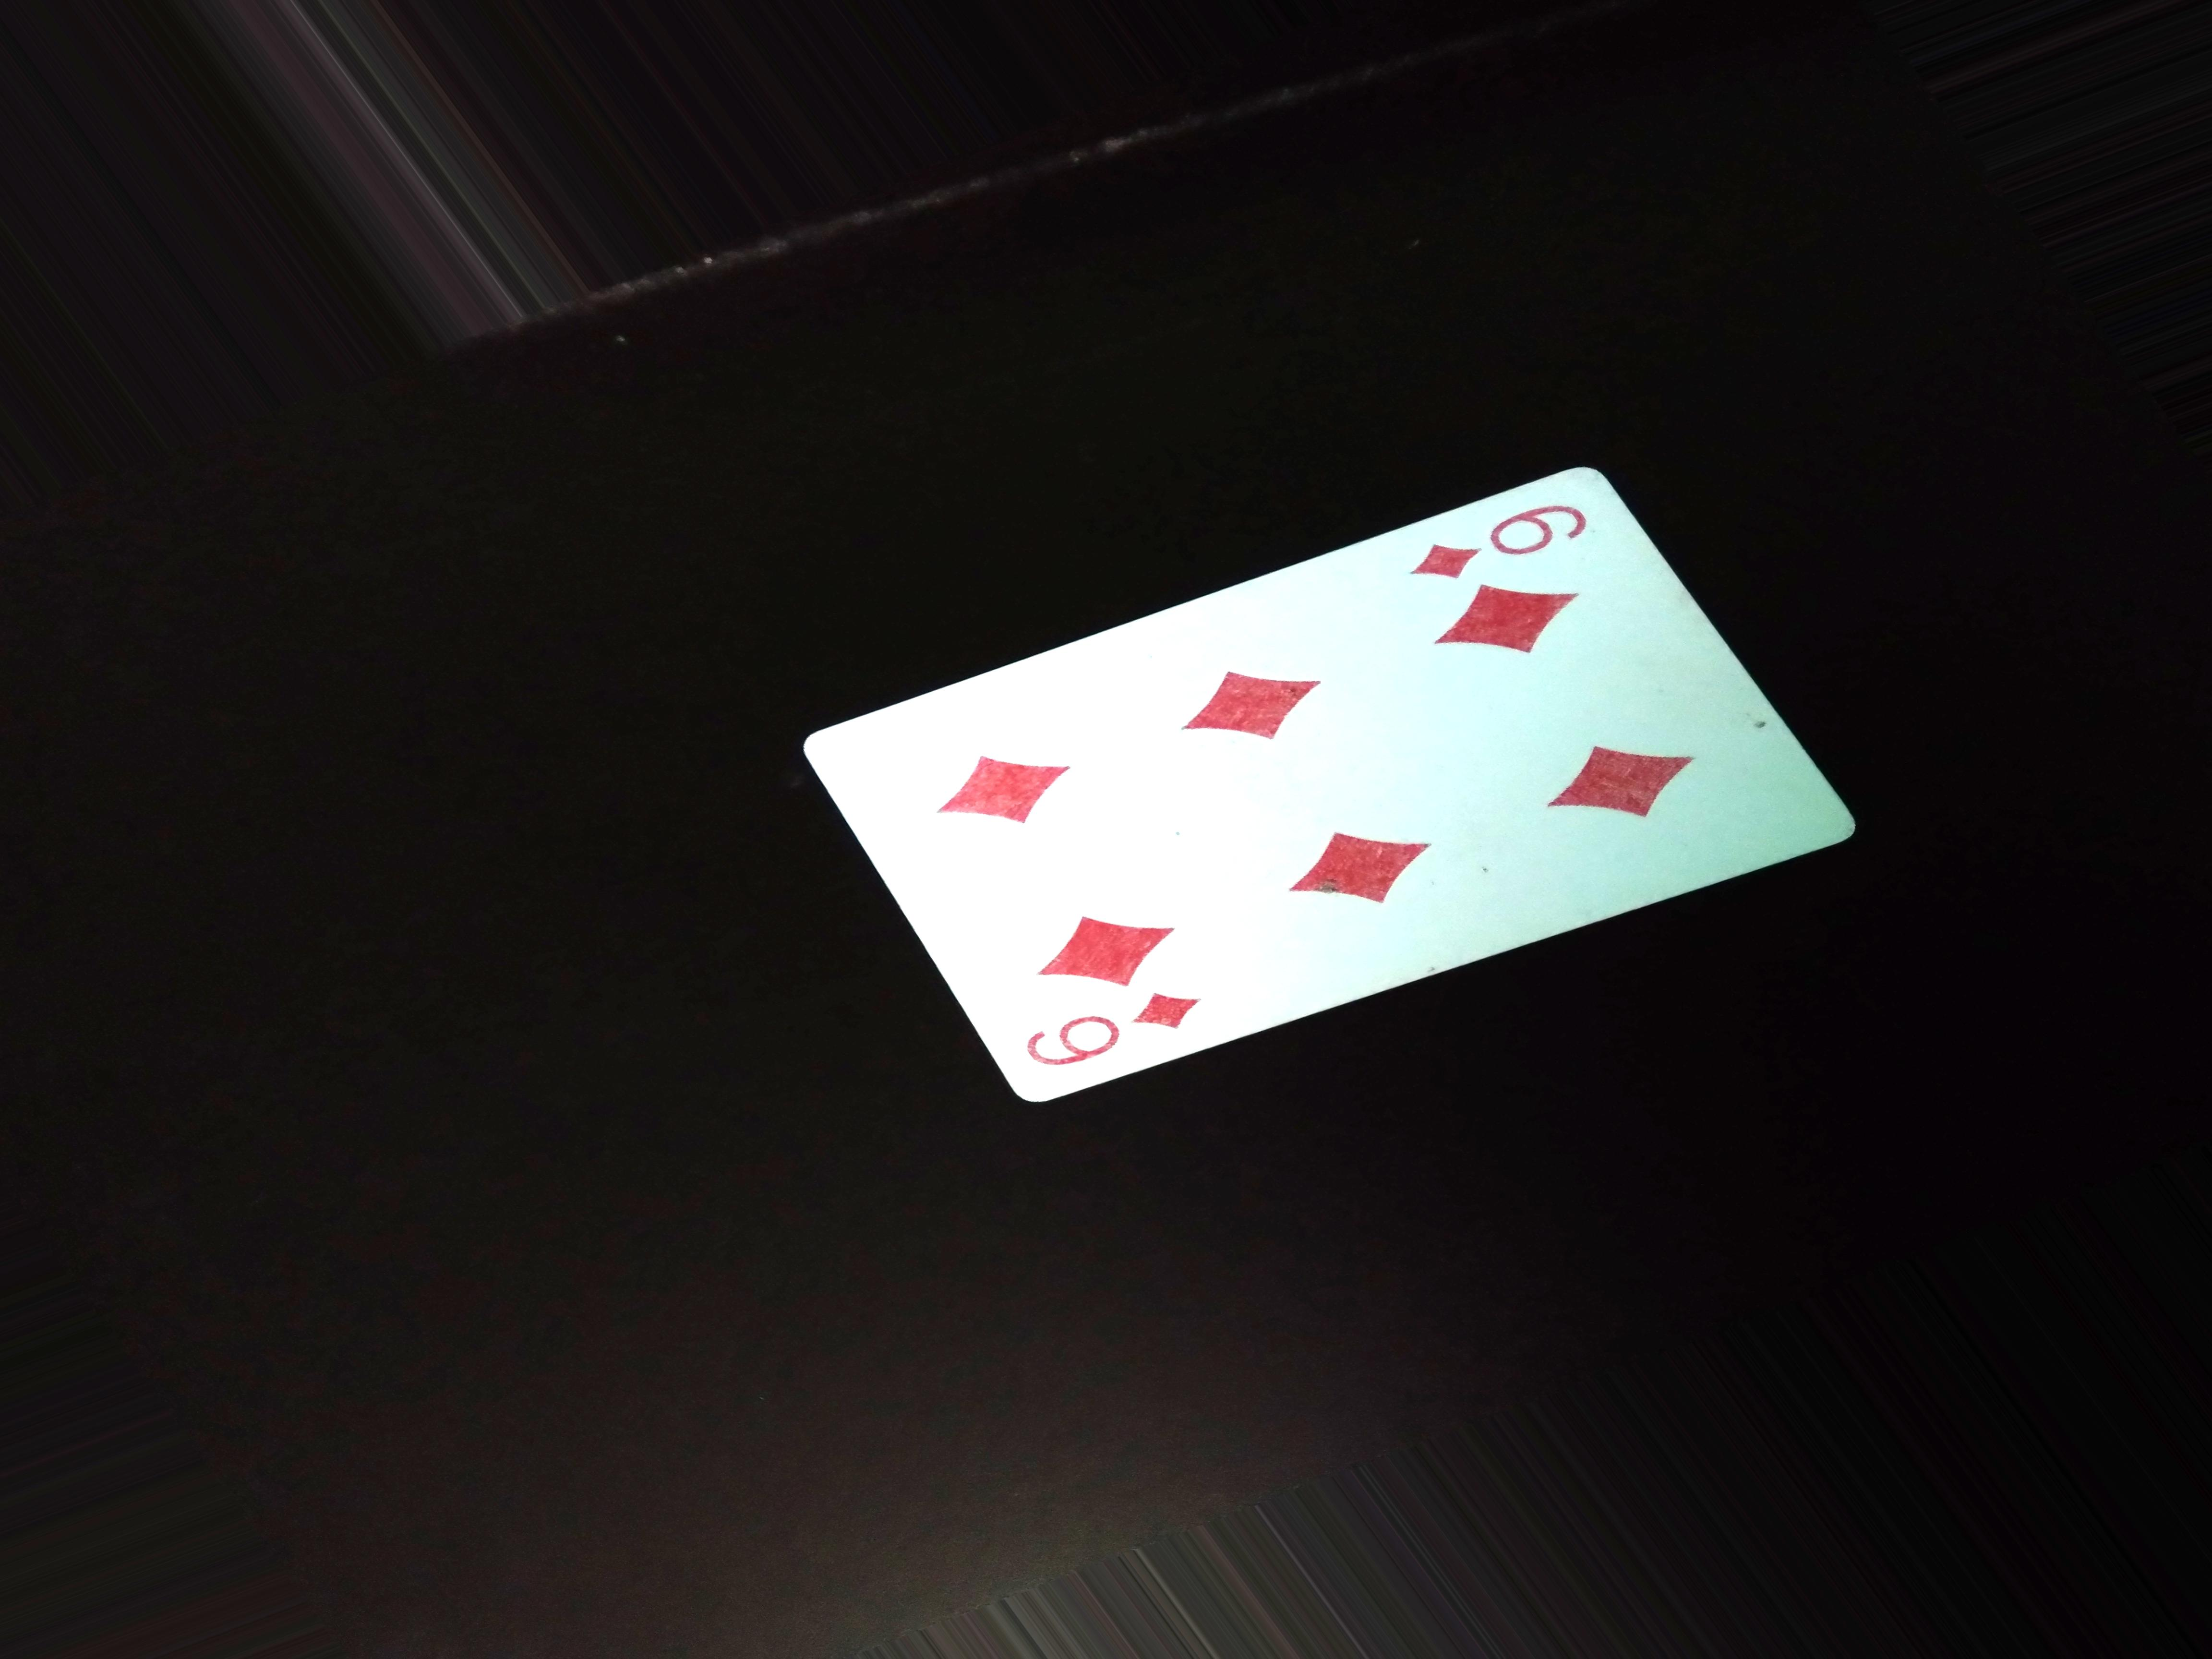6D: (1416, 502, 1594, 582)
